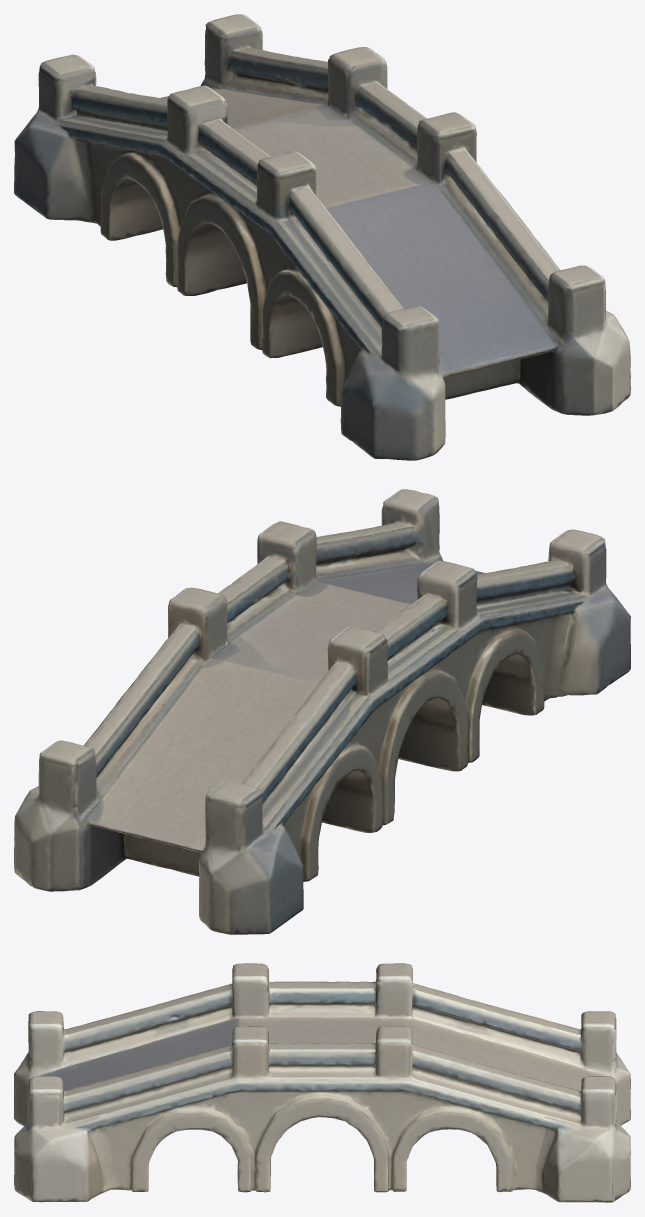
3 views of the same model, one above another, from view 1: azimuth 30°, elevation 25°; view 2: azimuth 150°, elevation 25°; view 3: azimuth 270°, elevation 25° (orthographic). The views are drawn at different scales.
Parts seen in each view (by area): view 1: texture_mapping; view 2: texture_mapping; view 3: texture_mapping.
Part boxes in pixels (x1,y1,x2,y2): texture_mapping: [14, 14, 630, 460]; texture_mapping: [14, 489, 630, 934]; texture_mapping: [14, 963, 630, 1202].
Size of the model in its own units: 0.3873 by 0.272 by 1.
Materials: 1 (1 with a texture image).
